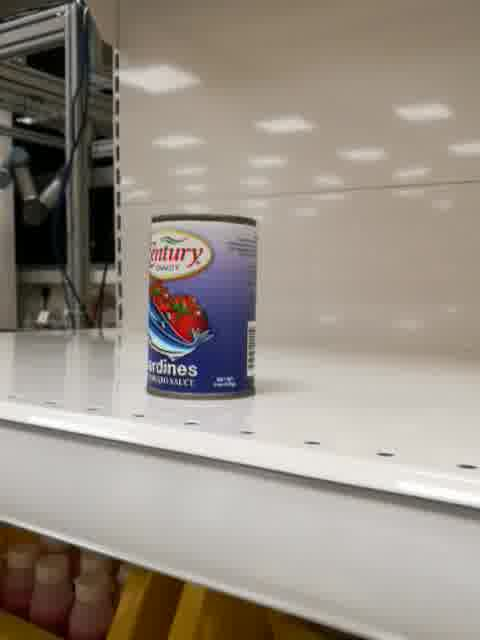sardine: (143, 212, 260, 403)
